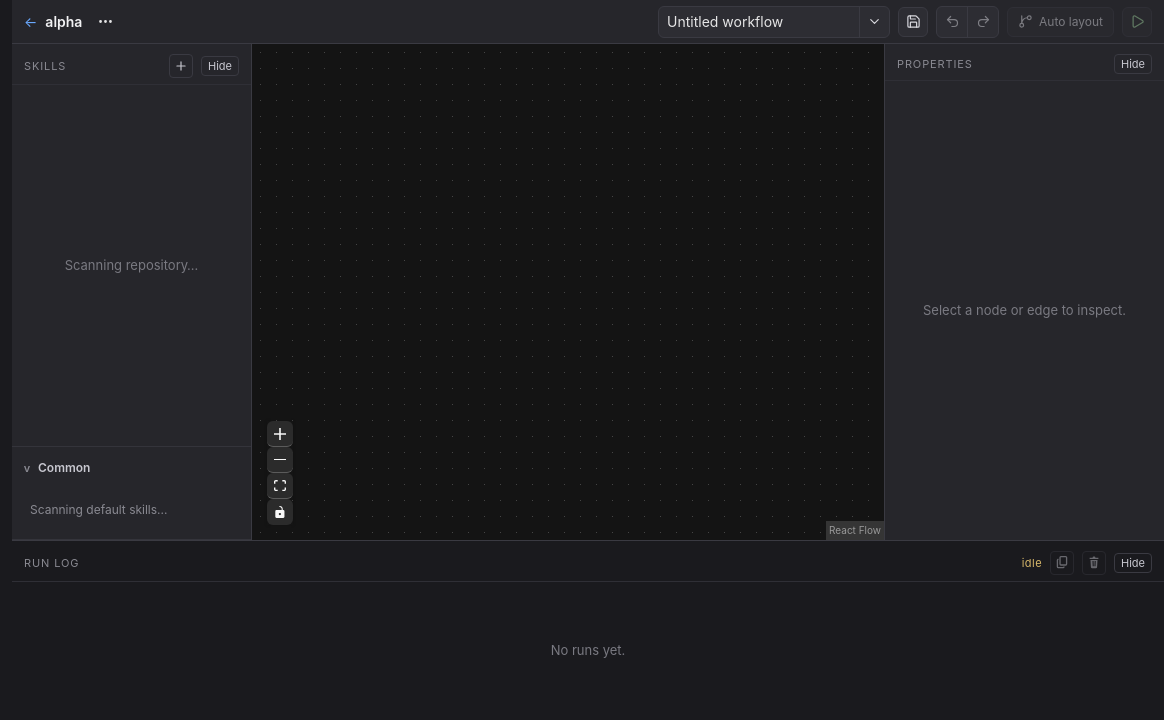
Scenario: Workspace › W1g: surfaces Codex open failures as an app error
This screenshot has width=1164, height=720.
Click the button with test id "workflow-settings": point(105, 22) [90, 6, 120, 36]
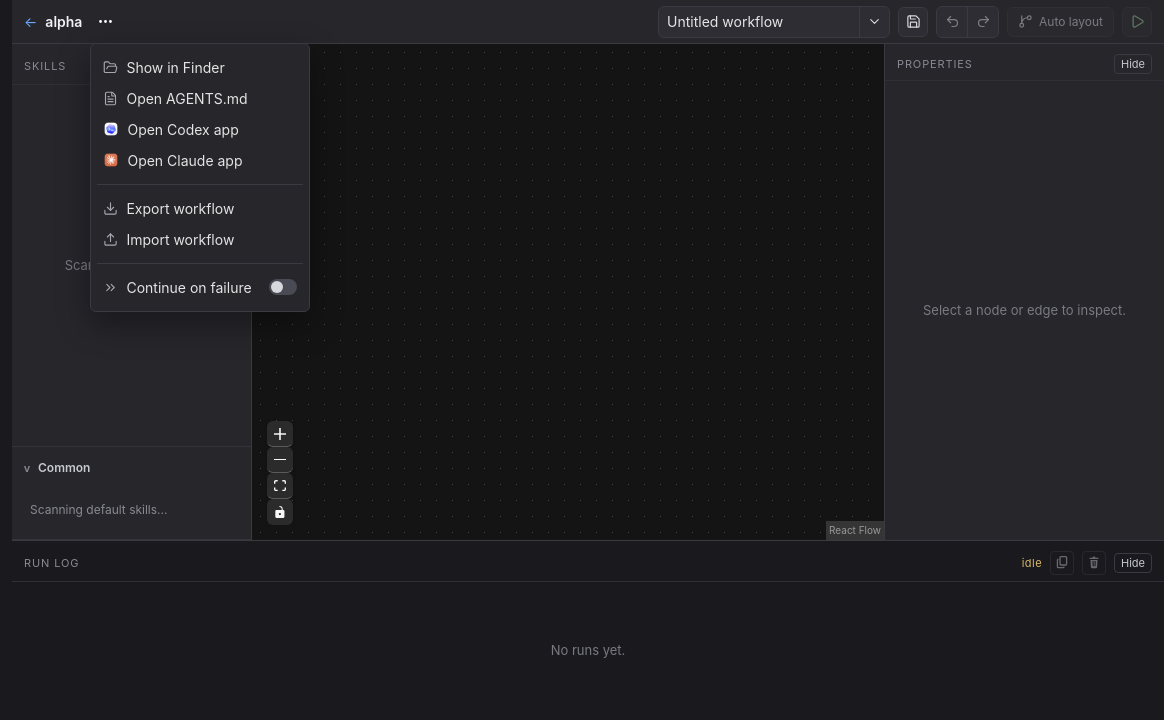
Click the menu item "Open Codex app": point(200, 129) [97, 114, 303, 144]
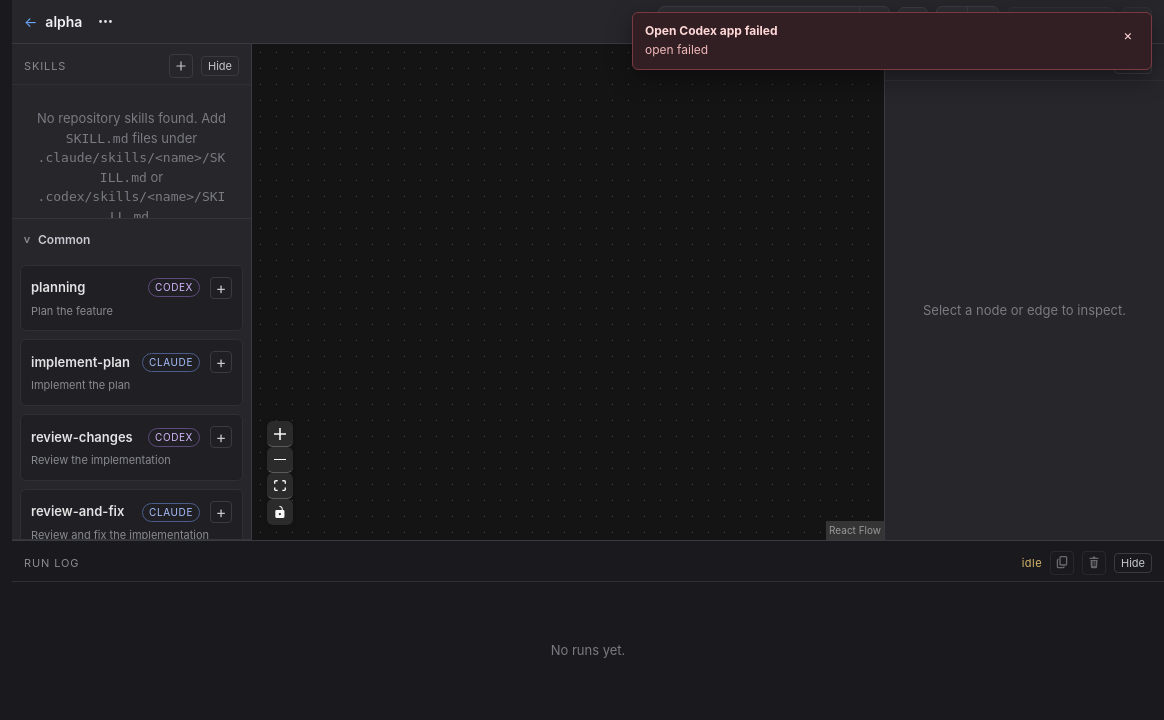
Expected: the message with test id "app-error-alert" shows "Open Codex app failed", [645, 23, 778, 38]
Expected: the message with test id "app-error-alert" shows "open failed", [645, 42, 708, 57]
